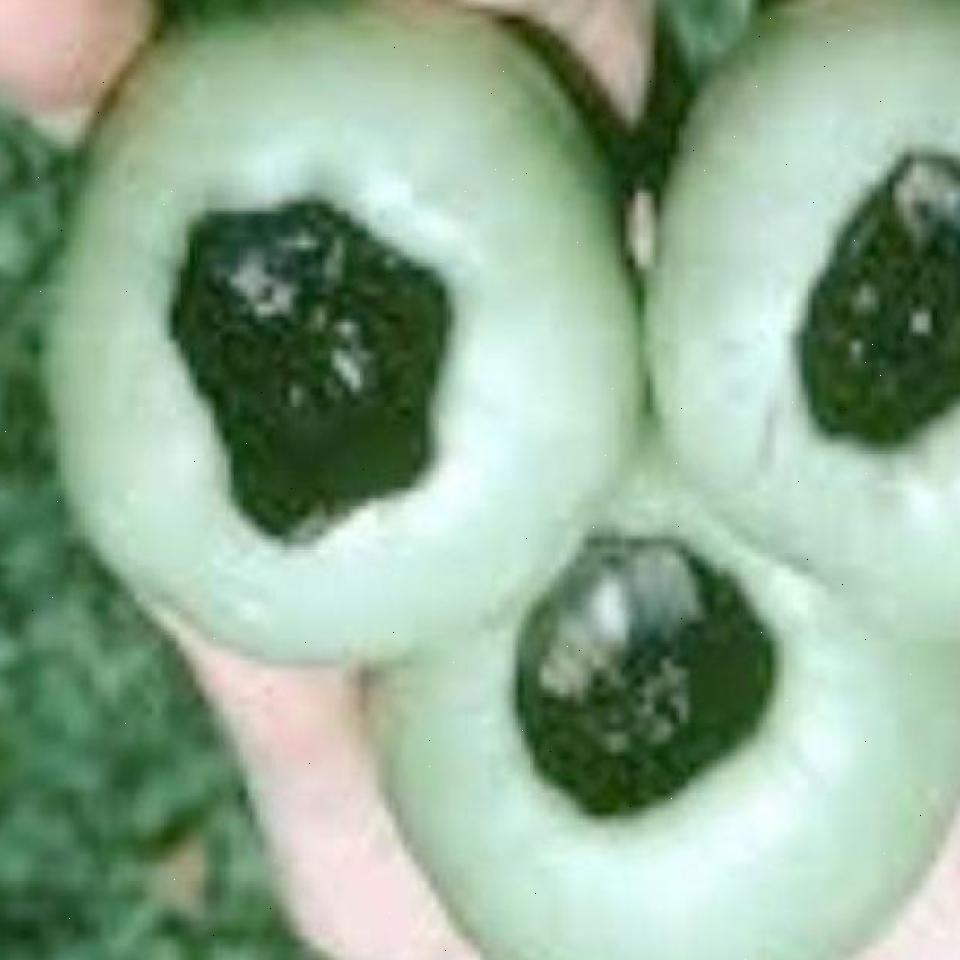Blossom_end_rot: (161, 196, 460, 560), (509, 520, 787, 838), (801, 142, 960, 453)
